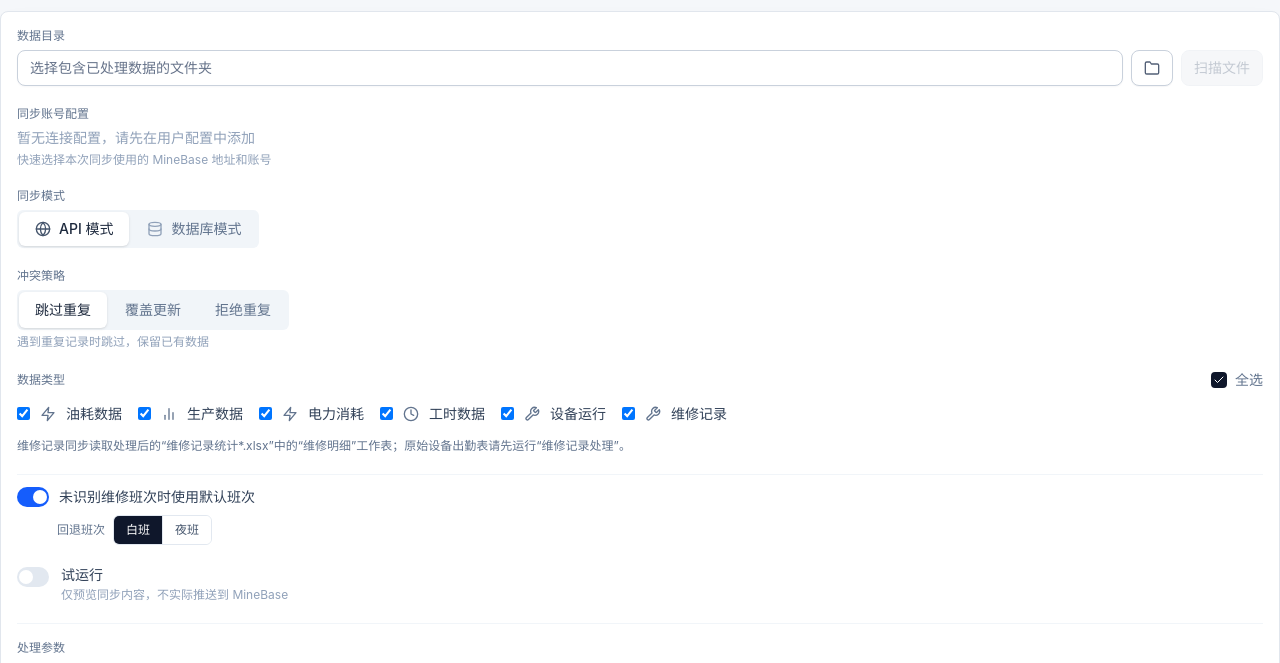
Test: DataSyncPage - Export Warnings › renders export button when warnings exist
This screenshot has width=1280, height=663.
// 填入目录路径触发同步
Type "/tmp/test" into the field with placeholder "选择包含已处理数据的文件夹" at (570, 68), box [17,50,1123,86]
(page scrolled)
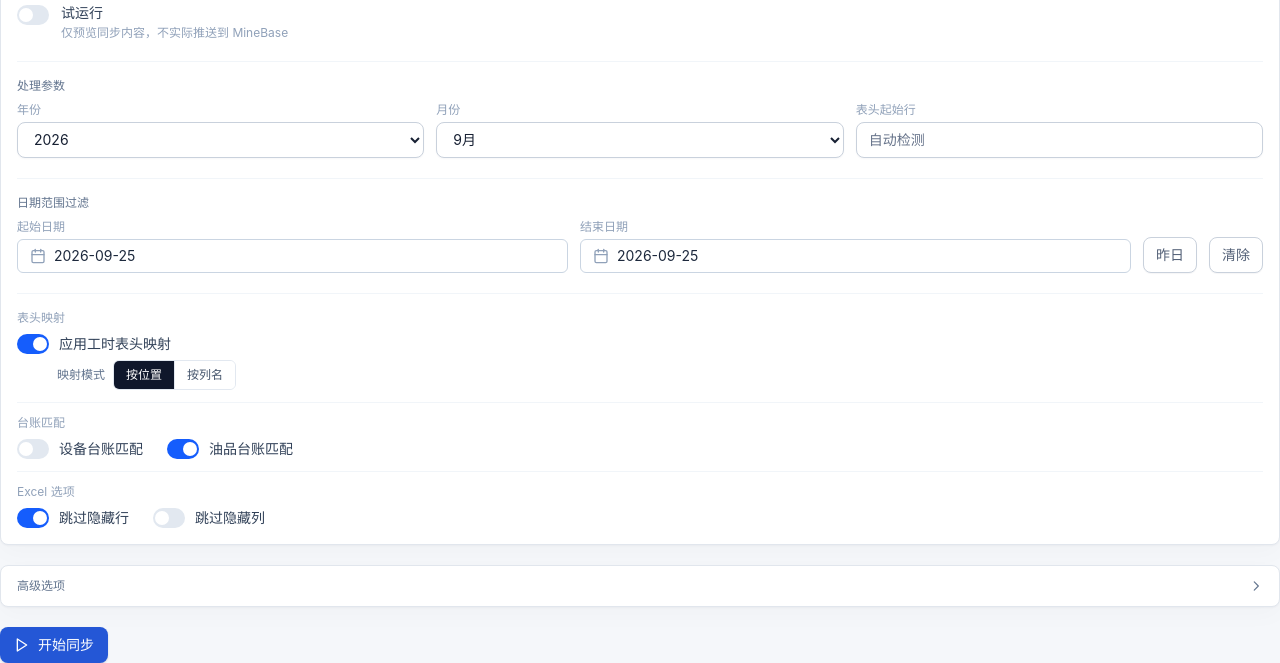
Click the button "开始同步" at (54, 644), box [0,626,108,662]
(page scrolled)
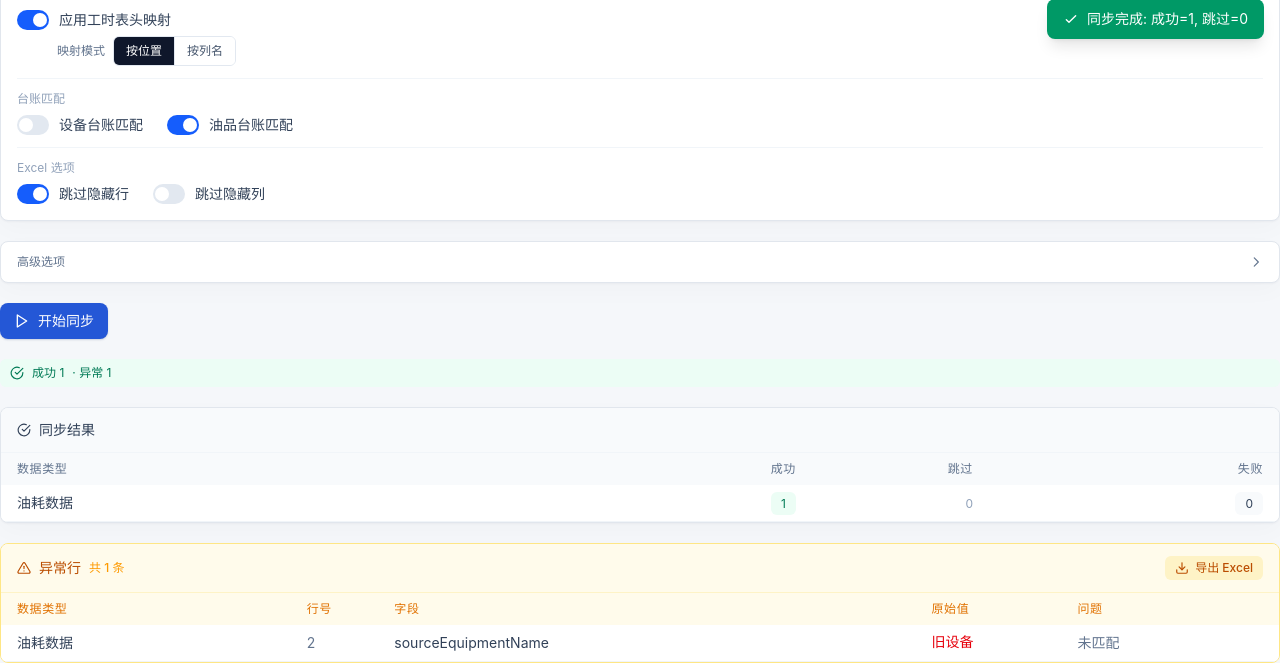
Now the button "导出 Excel" is shown, box [1165,556,1263,580]
